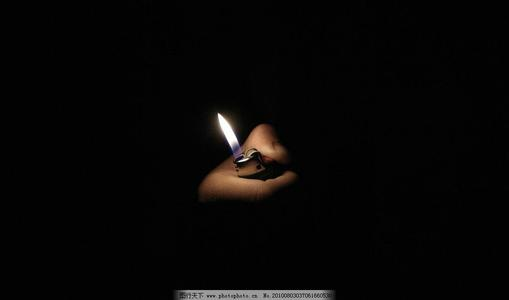fire: (211, 105, 247, 172)
